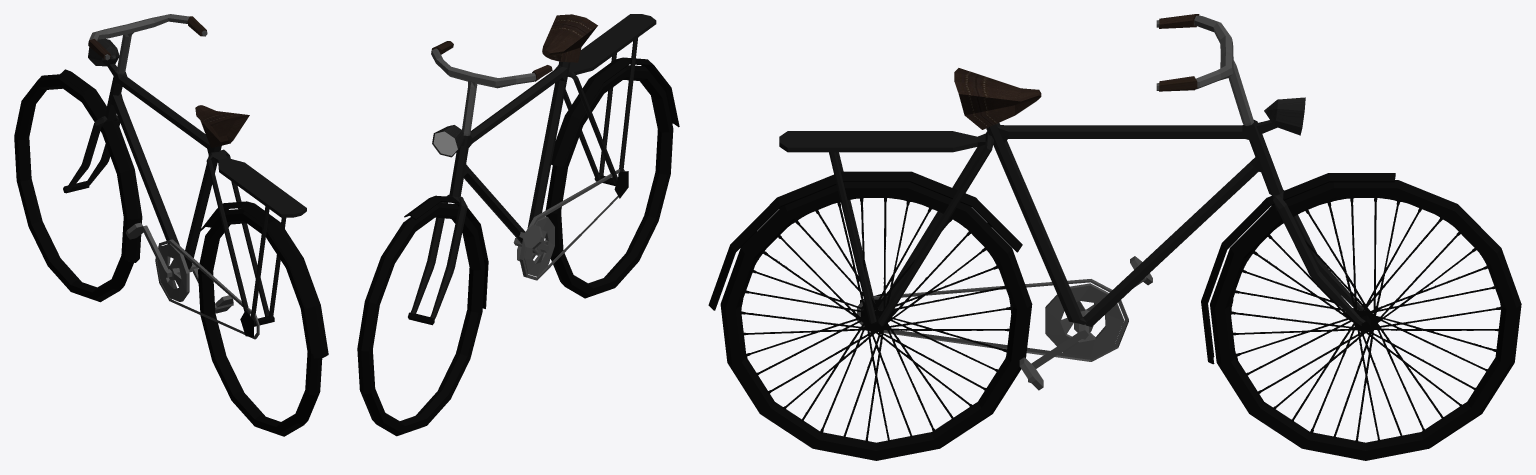
Rendered from Postbox.glb.
3 renders of one model, left to right at view 1: azimuth 30°, elevation 25°; view 2: azimuth 150°, elevation 25°; view 3: azimuth 270°, elevation 25°, orthographic. The views are drawn at different scales.
Parts seen in each view (by area): view 1: Frame, BackWheel, FrontWheel, Rotary, Steering, Seat, Pedal, Light.001, Handle; view 2: Frame, BackWheel, FrontWheel, Rotary, Seat, Steering, Light.001, Pedal, Handle; view 3: Frame, BackWheel, FrontWheel, FrontWireWheel, BackWireWheel, Rotary, Seat, Steering, Pedal, Light.001, Handle.
Part boxes in pixels (box(x1,y1,x2,y2)): Frame: box(65, 63, 306, 323); BackWheel: box(198, 201, 328, 436); FrontWheel: box(14, 69, 142, 302); Rotary: box(155, 239, 259, 339); Steering: box(88, 14, 207, 74); Seat: box(195, 105, 249, 147); Pedal: box(125, 222, 233, 313); Light.001: box(88, 38, 119, 66); Handle: box(88, 16, 206, 60); Frame: box(410, 14, 656, 320); BackWheel: box(545, 57, 679, 298); FrontWheel: box(357, 195, 488, 436); Rotary: box(519, 169, 625, 280); Seat: box(542, 14, 597, 62); Steering: box(431, 48, 551, 135); Light.001: box(432, 125, 464, 157); Pedal: box(513, 225, 548, 261); Handle: box(431, 41, 552, 81); Frame: box(779, 120, 1365, 326); BackWheel: box(708, 171, 1032, 460); FrontWheel: box(1201, 173, 1521, 460); FrontWireWheel: box(1229, 197, 1502, 442); BackWireWheel: box(739, 197, 1013, 442); Rotary: box(857, 279, 1128, 361); Seat: box(954, 68, 1041, 129); Steering: box(1156, 15, 1253, 125); Pedal: box(1019, 256, 1152, 390); Light.001: box(1264, 97, 1305, 135); Handle: box(1159, 14, 1199, 91).
Bounding box in the file's own units: 0.3168 × 0.9102 × 1.61.
11 materials, 4 textured.
